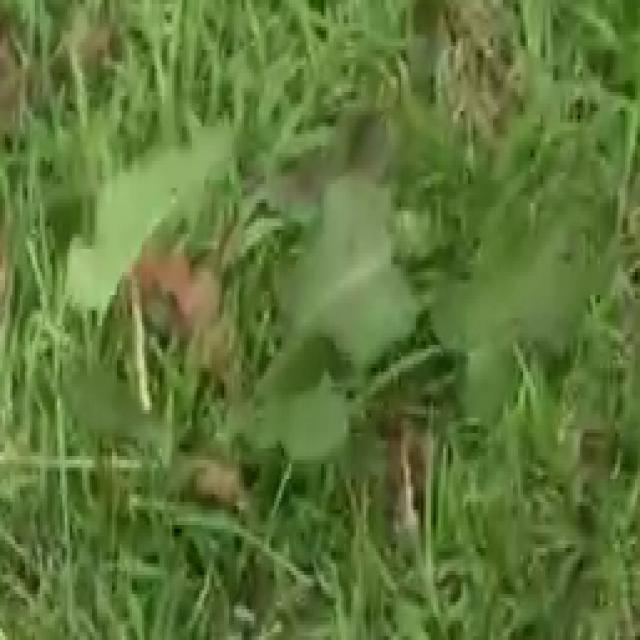organic waste: (60, 85, 592, 582)
